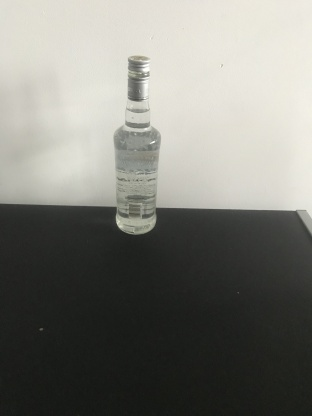nakretka: (126, 53, 151, 101)
